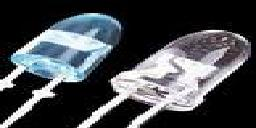LED: (114, 24, 251, 128), (8, 12, 121, 101)
